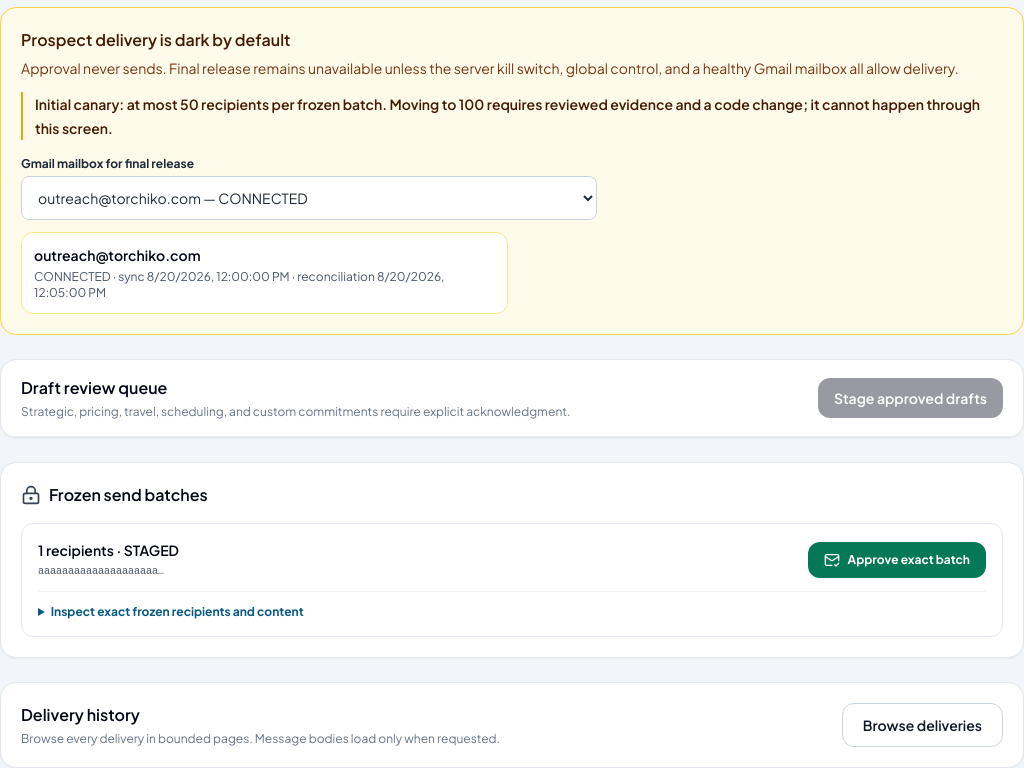
ProspectCampaignWorkbench release safety › moves focus into the confirmation, traps it, and closes on Escape
(page scrolled)
Click the button "Approve exact batch" at (897, 560), box [808, 542, 986, 578]
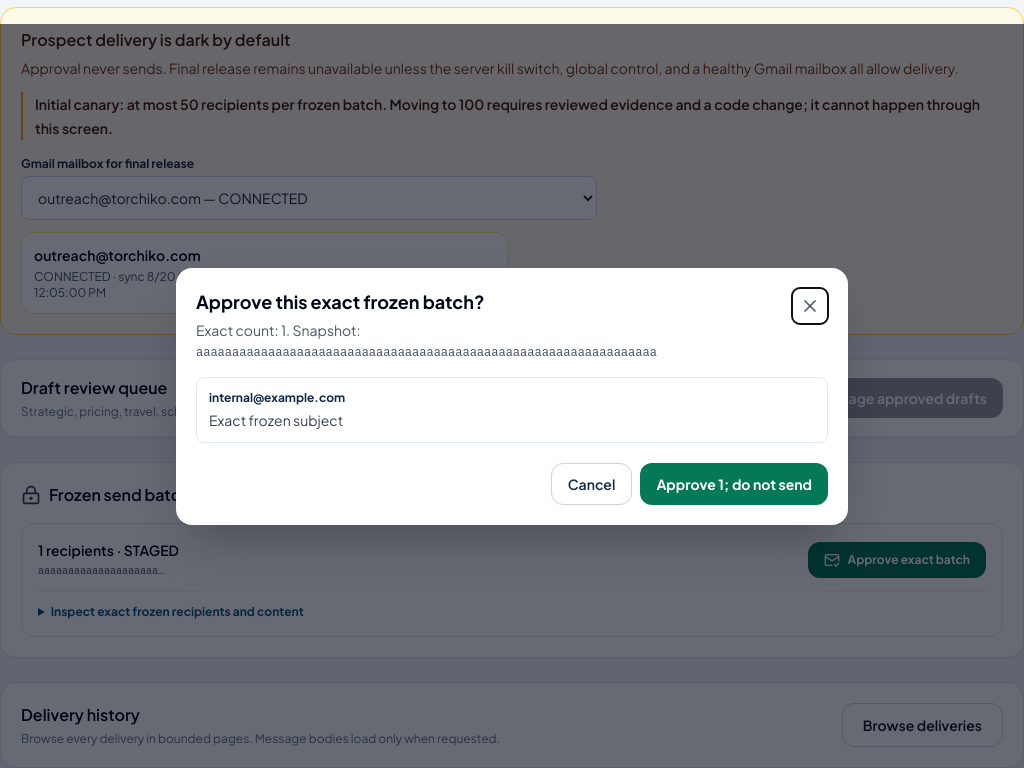
Press Tab
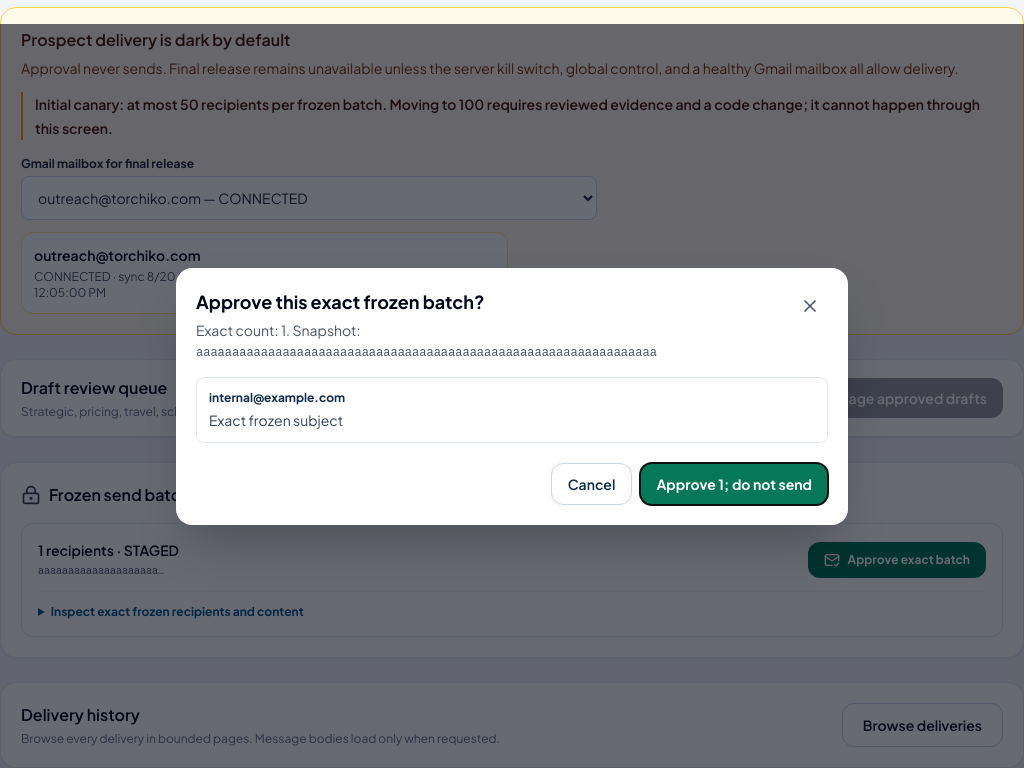
Press Escape
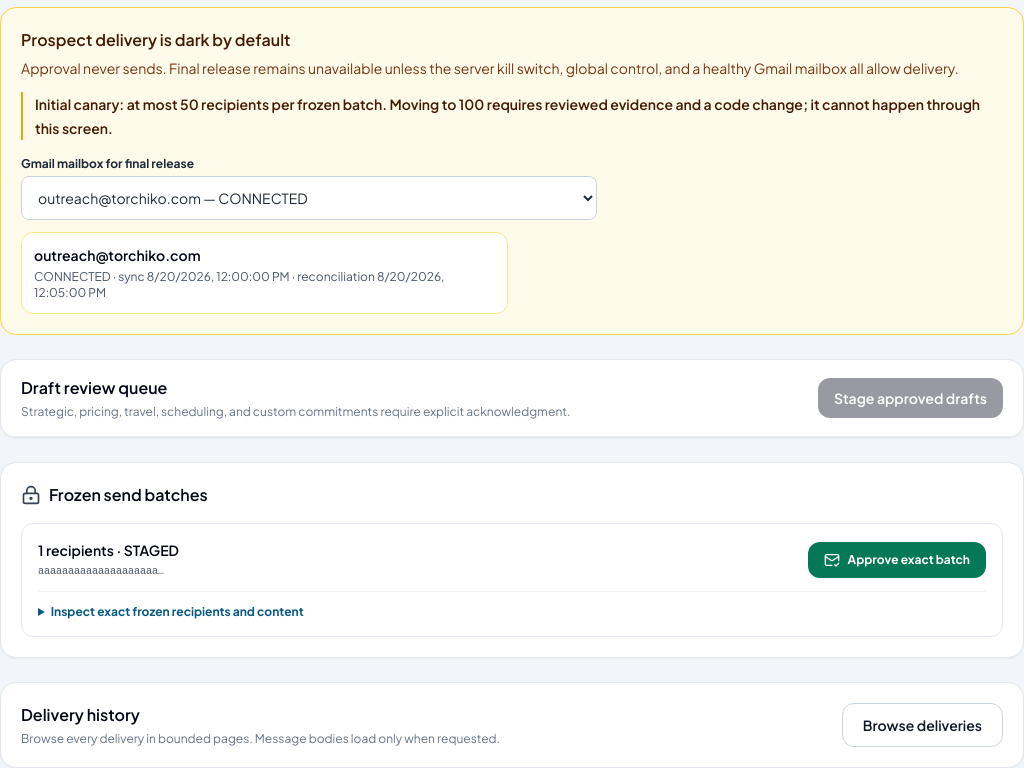
Now the dialog is gone
